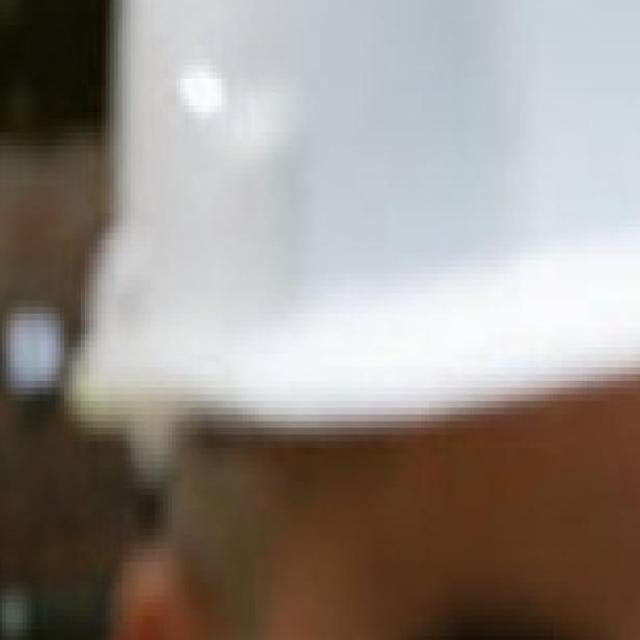helmet: (42, 0, 640, 440)
